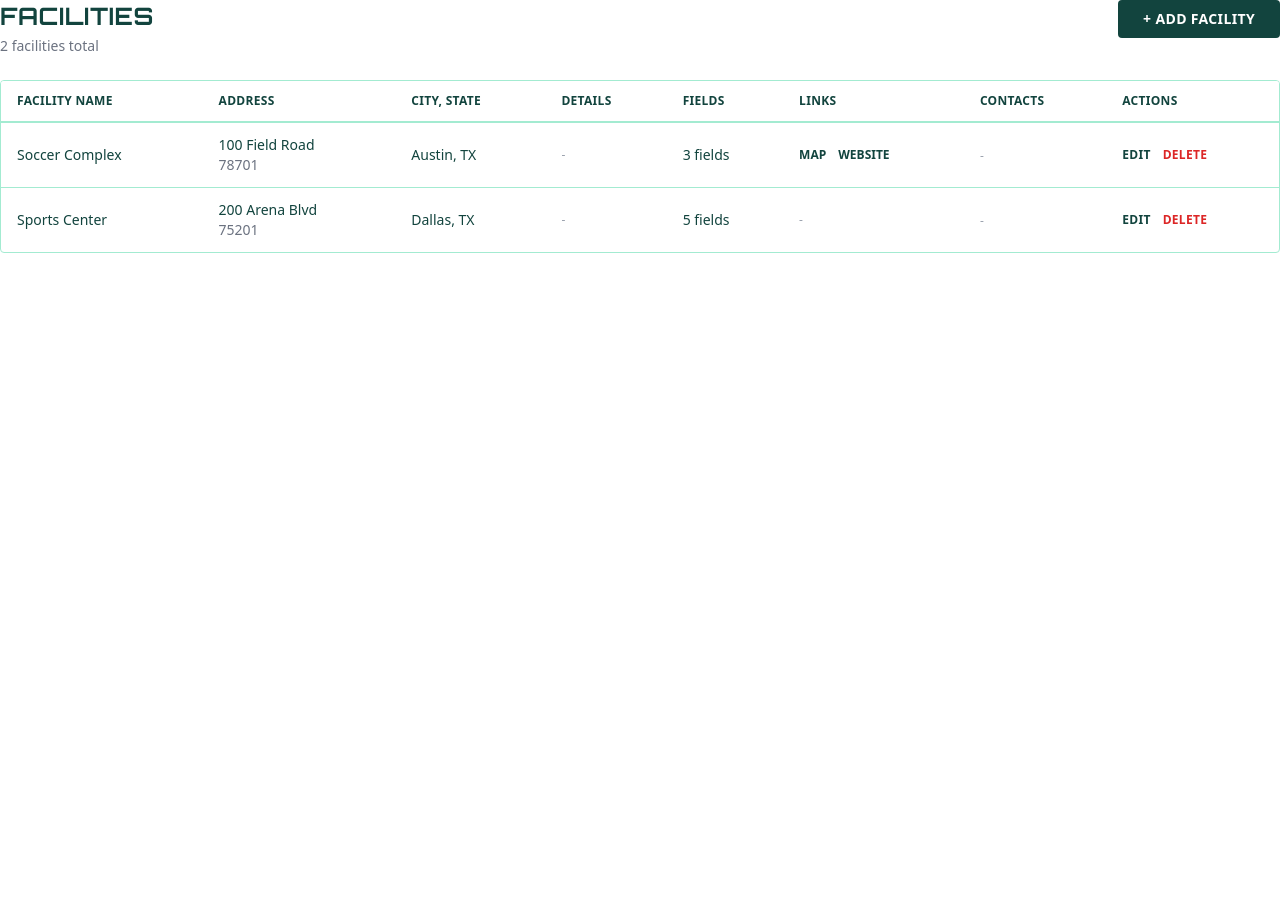
Test: VenueManagement › Edit Facility › opens form with venue data when Edit is clicked
Check: the text "Soccer Complex" is shown, box 17,145 -> 122,164
Click the button "Edit" in the row of "Soccer Complex": coordinates (1136, 155) 1122,147 -> 1151,163
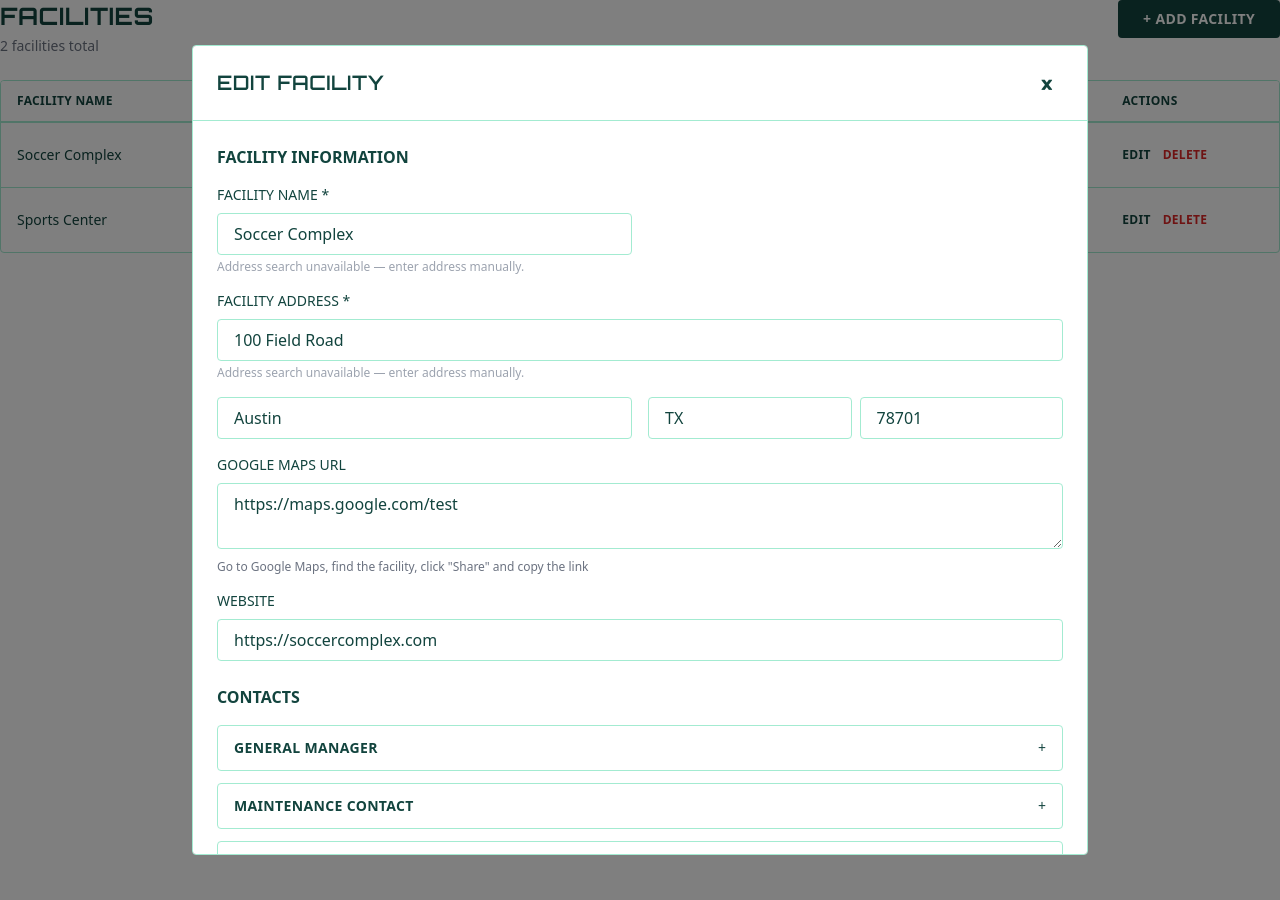
Check: the heading "Edit Facility" is shown, box 217,69 -> 384,97
